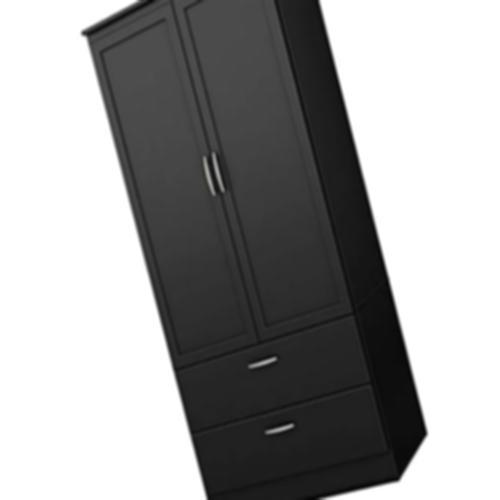Armario: (86, 4, 433, 488)
